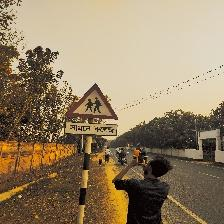College-in-front: (51, 69, 131, 146)
